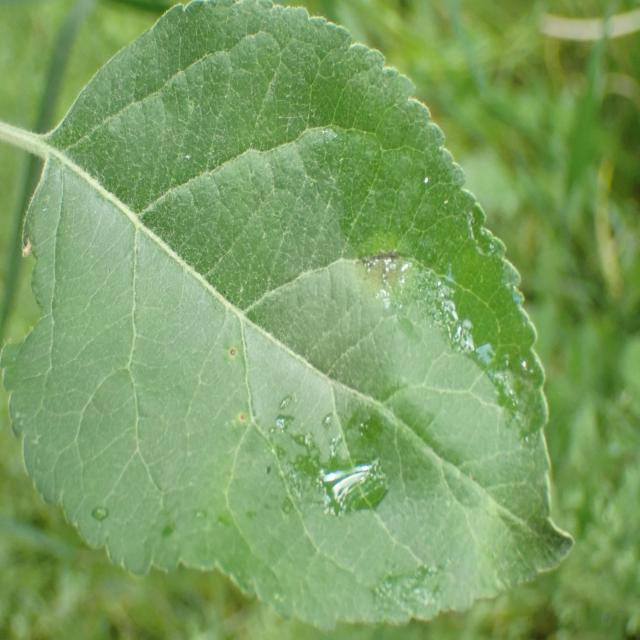scab: (148, 85, 446, 634)
